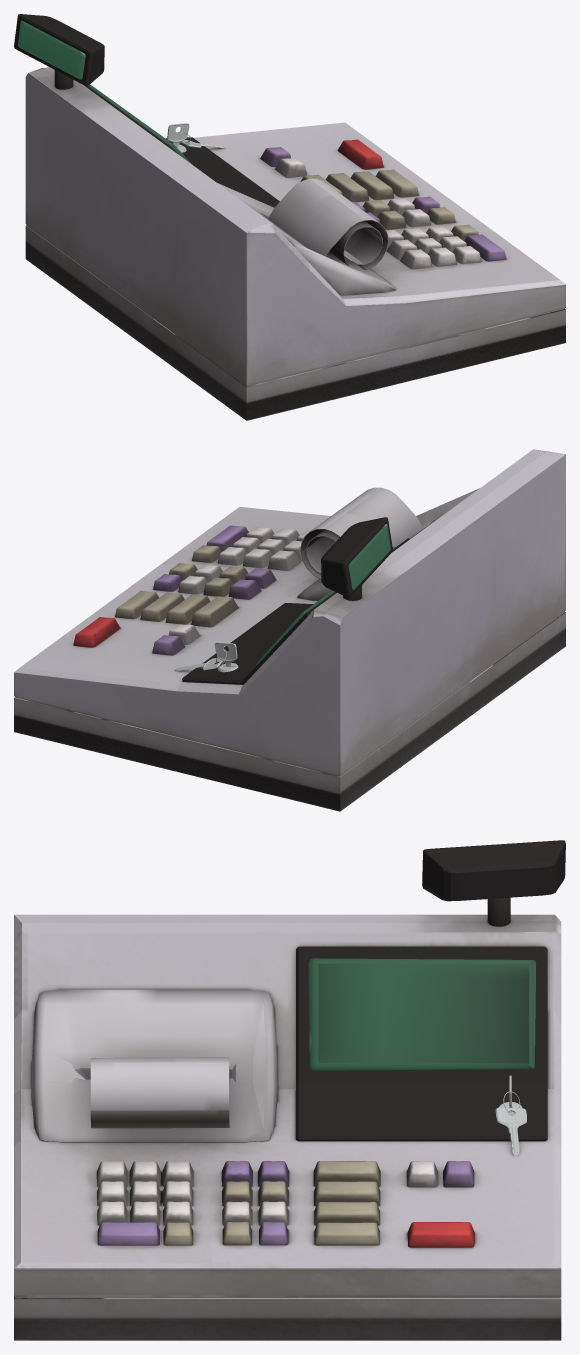
The model's file is SM_cash_register.fbx.
3 renders of one model, top to bottom at view 1: azimuth 30°, elevation 25°; view 2: azimuth 150°, elevation 25°; view 3: azimuth 270°, elevation 25°, orthographic. The views are drawn at different scales.
Parts seen in each view (by area): view 1: Cube.005; view 2: Cube.005; view 3: Cube.005.
Boxes of the visible parts, x1,y1,x2,y2 form: Cube.005: (14, 14, 565, 420); Cube.005: (14, 449, 565, 811); Cube.005: (14, 840, 565, 1340).
Bounding box in the file's own units: 0.3867 × 0.2748 × 0.4518.
